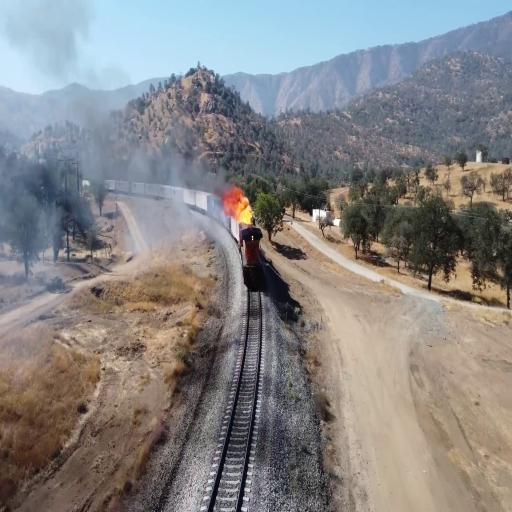fire: (226, 182, 256, 227)
smoke: (146, 145, 182, 239)
